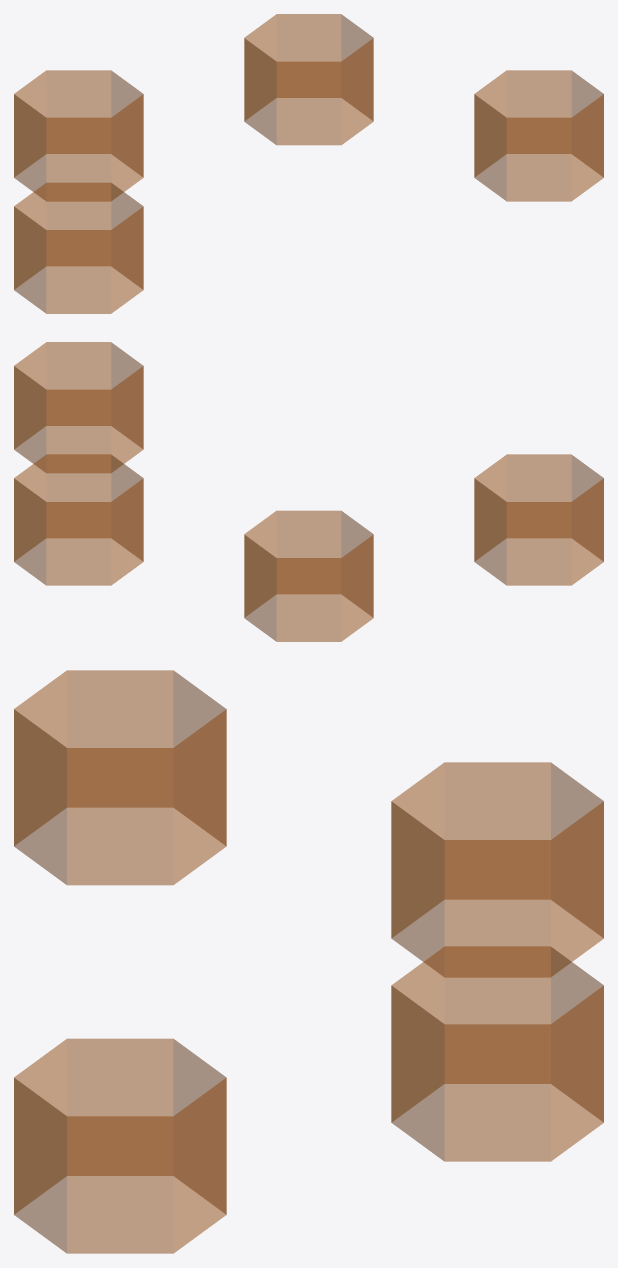
File: TeamsBattle_Part03.fbx
3 views of the same model, one above another, from view 1: azimuth 30°, elevation 25°; view 2: azimuth 150°, elevation 25°; view 3: azimuth 270°, elevation 25° (orthographic). The views are drawn at different scales.
Parts seen in each view (by area): view 1: TeamsBattle_Part03; view 2: TeamsBattle_Part03; view 3: TeamsBattle_Part03.
Boxes of the visible parts, x1,y1,x2,y2 form: TeamsBattle_Part03: (14, 14, 603, 313); TeamsBattle_Part03: (14, 342, 603, 641); TeamsBattle_Part03: (14, 670, 603, 1253).
Bounding box in the file's own units: 7.9 × 1.13 × 4.41.
